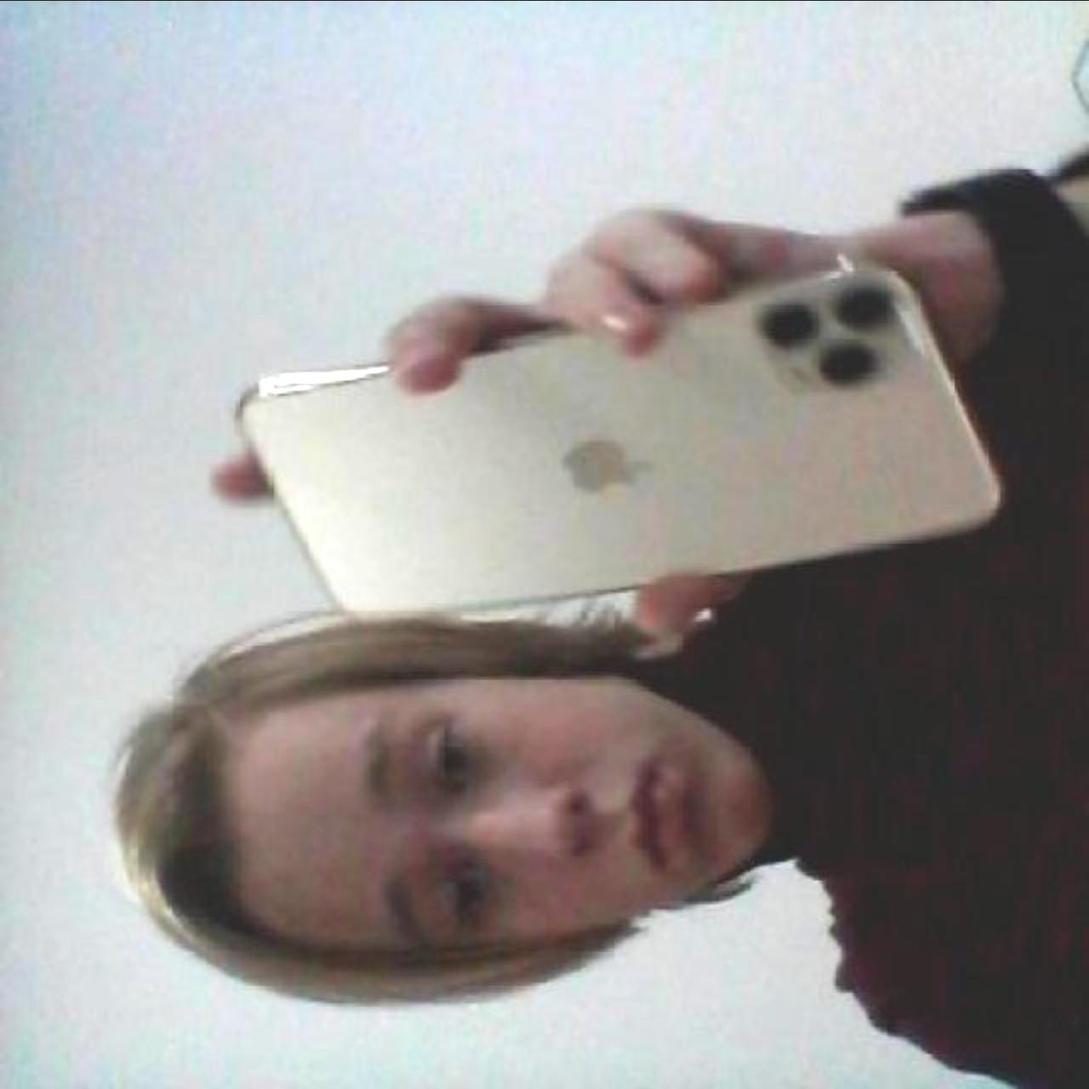phone: (223, 254, 1026, 662)
